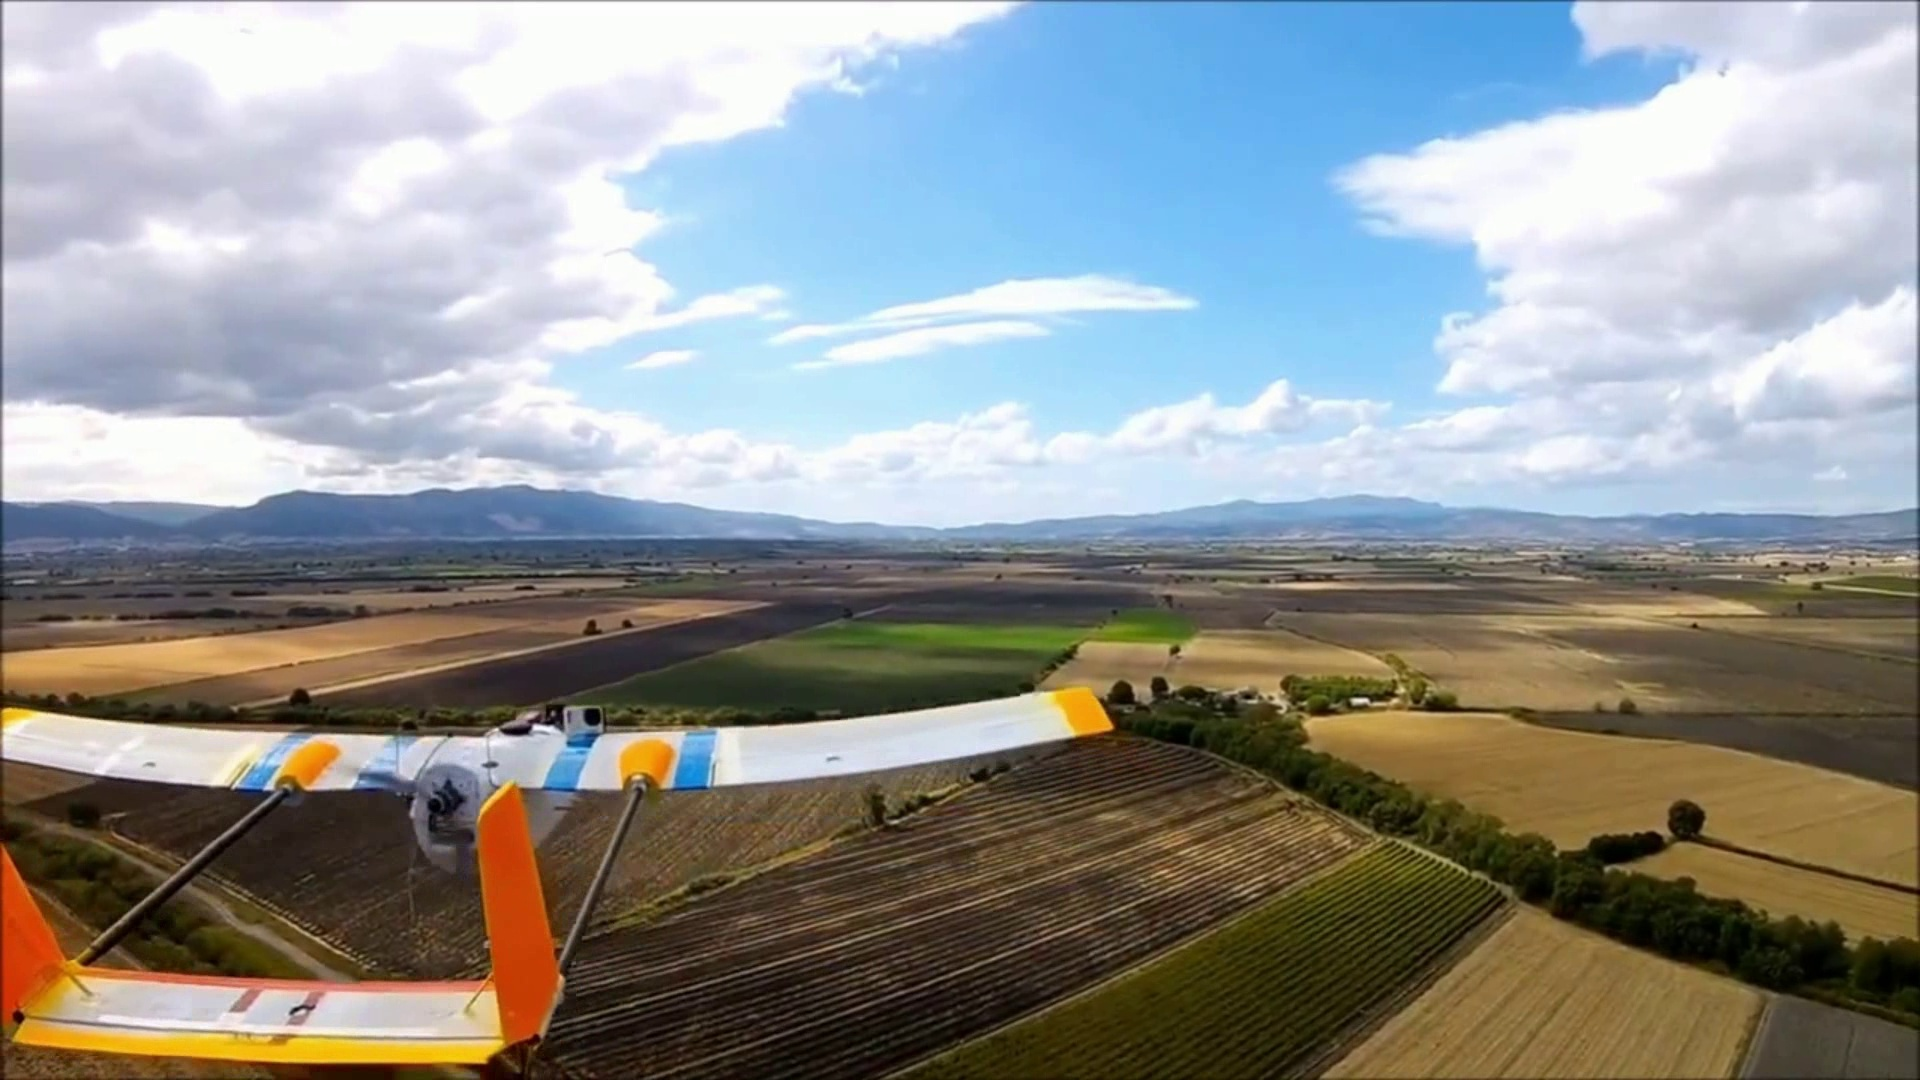airplane: (3, 657, 1124, 1071), (51, 644, 1127, 874)
